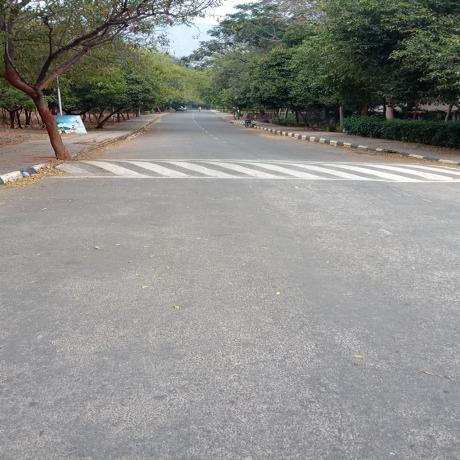Speed Bump: (41, 158, 459, 180)
